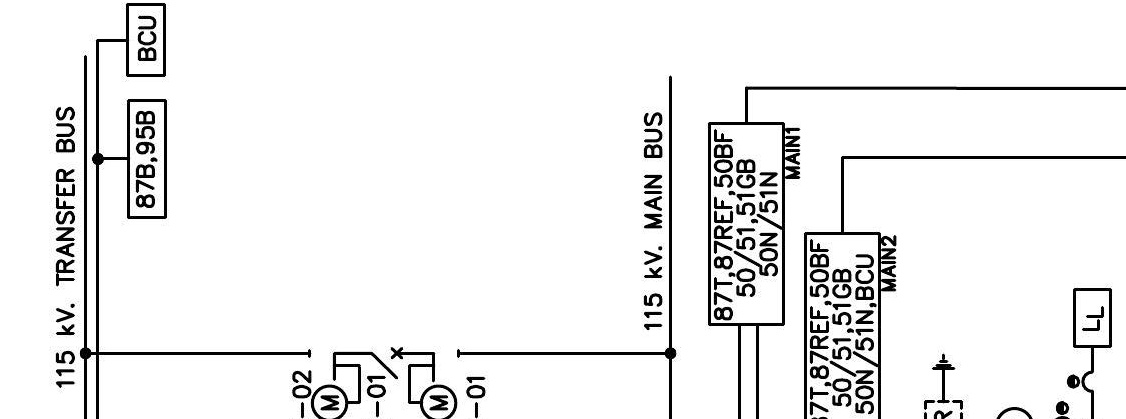115_breaker: (370, 346, 404, 380)
BCU: (125, 2, 167, 78)
LL: (1073, 288, 1112, 348)
